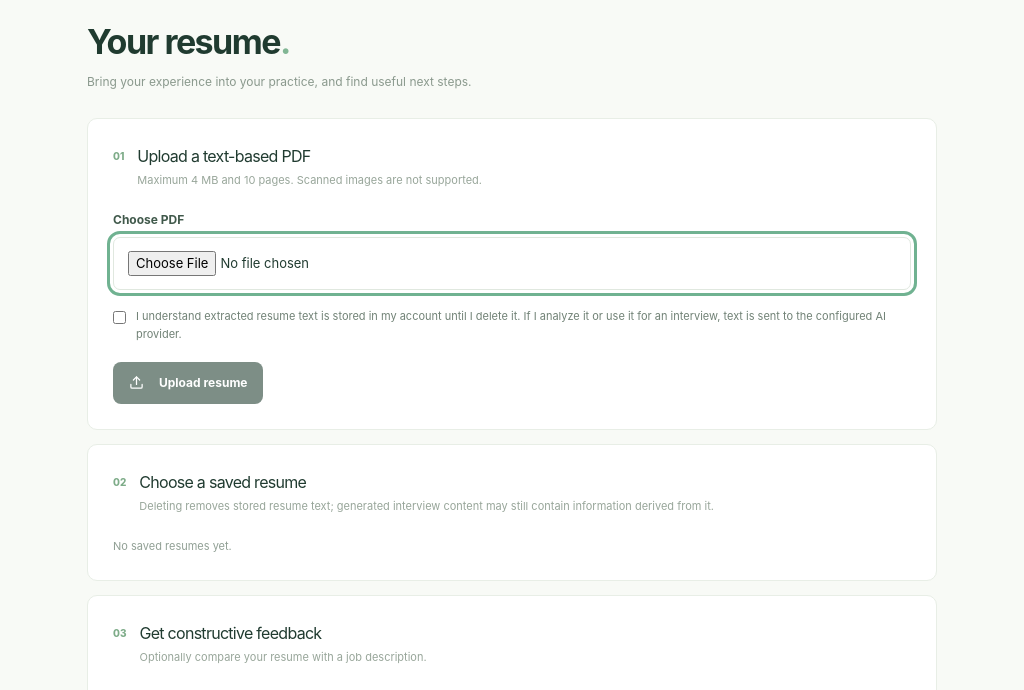
Test: requires consent and supports upload, AI analysis and deletion
This screenshot has width=1024, height=690.
Earlier steps of the test are not shown.
Check: the text "No saved resumes yet." is shown, box [113,539,232,553]
Check: the button "Upload resume" is disabled, box [113,362,264,404]
Step 1. Click the checkbox → click(120, 318), box [113,311,126,324]
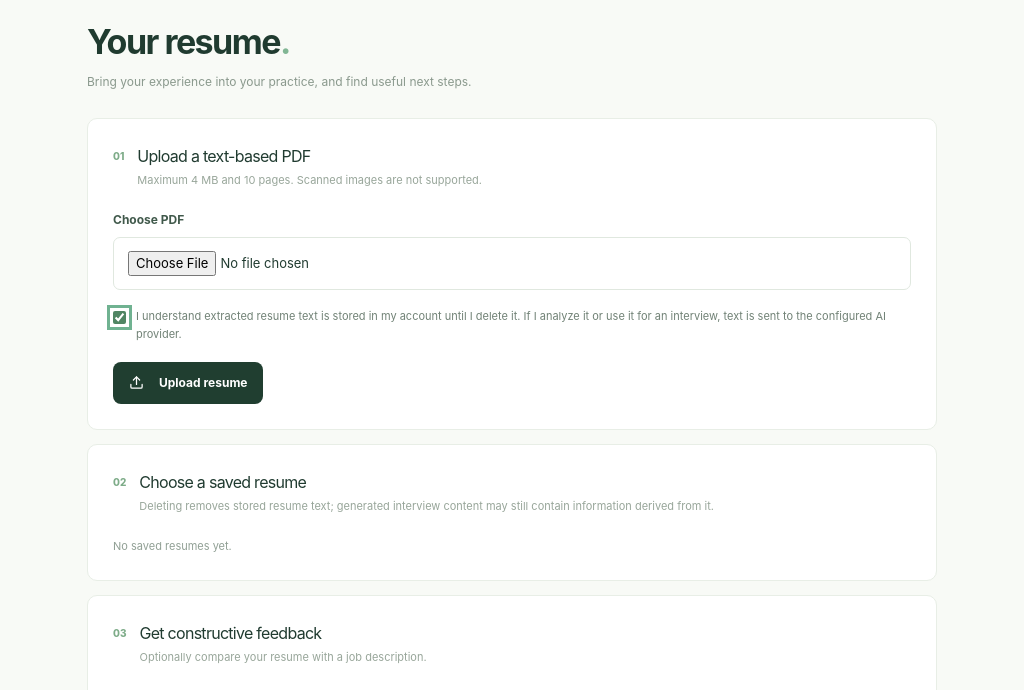
Step 2. Click the button "Upload resume" → click(188, 383), box [113,362,264,404]
(page scrolled)
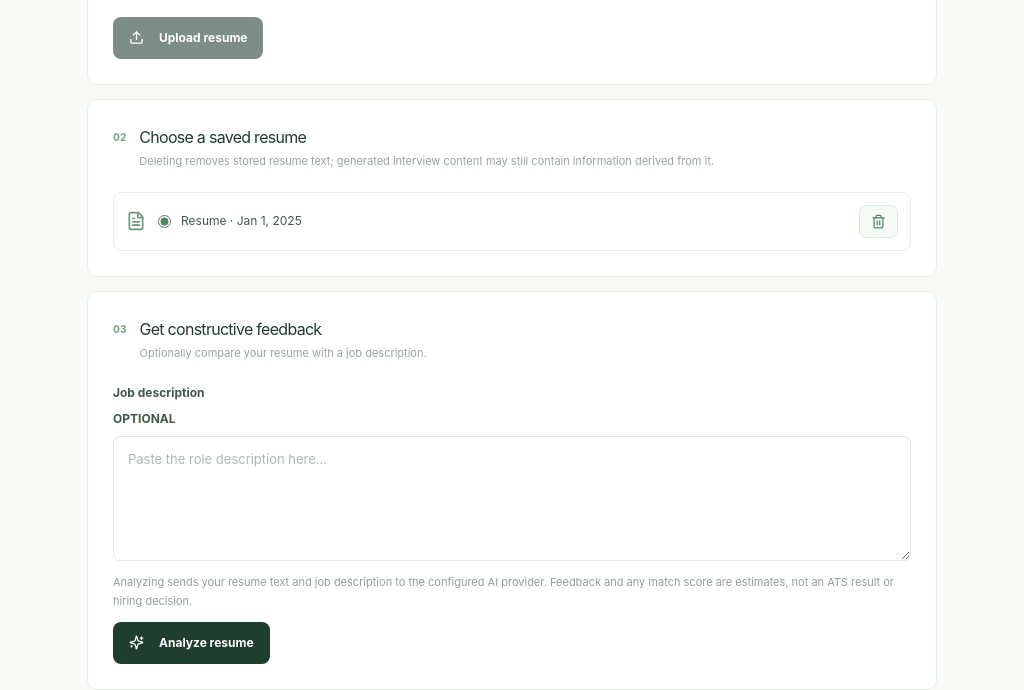
Check: the text "Resume · Jan 1, 2025" is shown, box [181,212,302,230]
Step 3. Type "TypeScript developer" into the text box labelled "Job description OPTIONAL" → (512, 499), box [113,436,911,561]
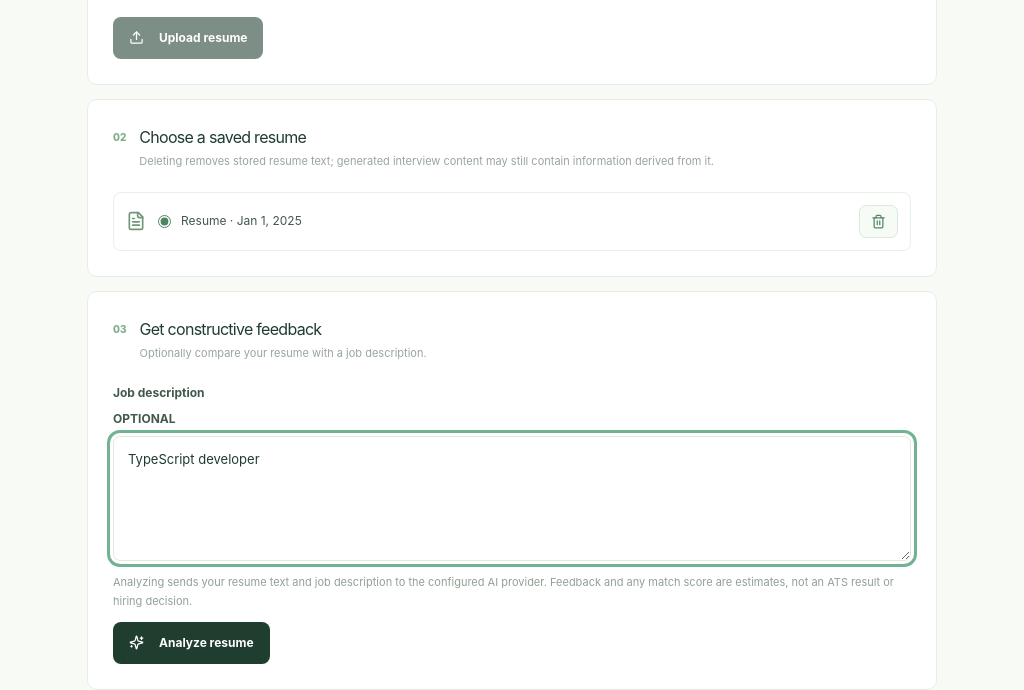
Step 4. Click the button "Analyze resume" → click(191, 643), box [113,622,270,664]
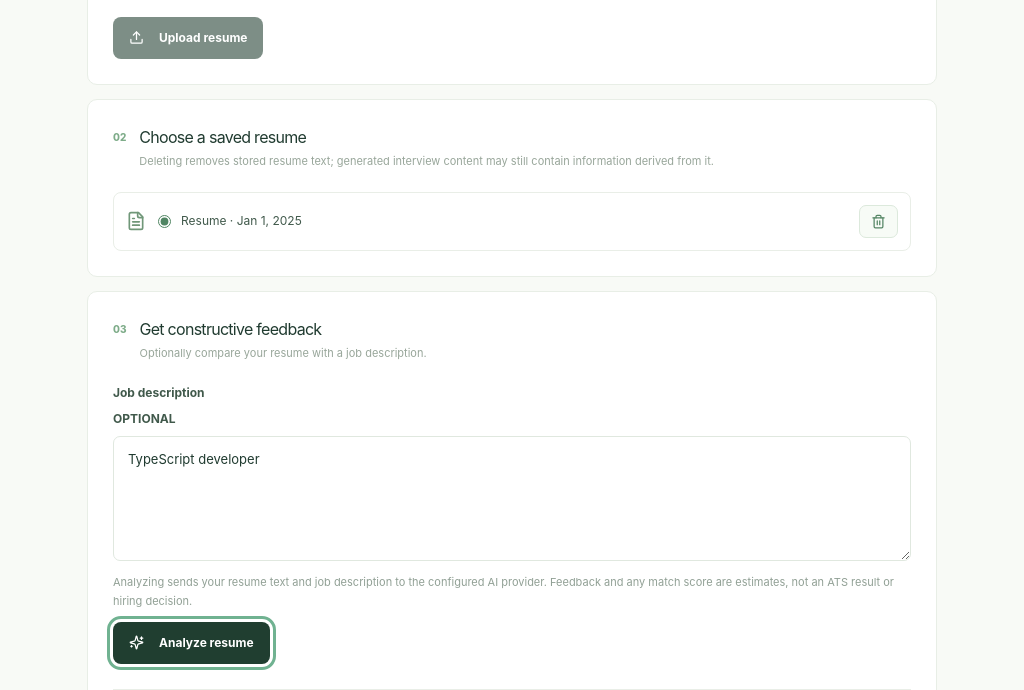
Step 5. Click the button named "delete resume" → click(878, 221), box [859,205,898,238]
(page scrolled)
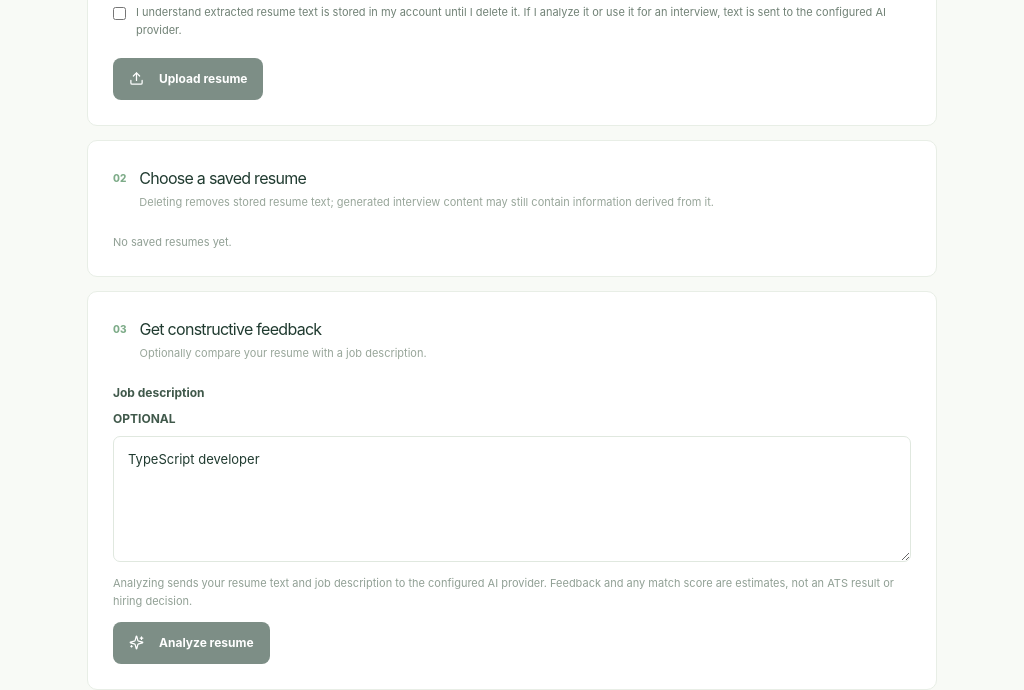
Check: the text "No saved resumes yet." is shown, box [113,235,232,249]
